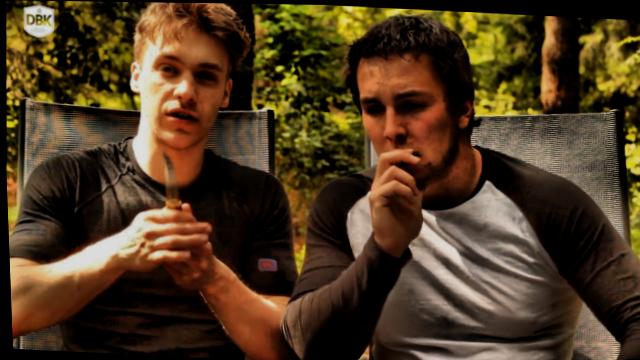knife: (144, 144, 207, 248)
